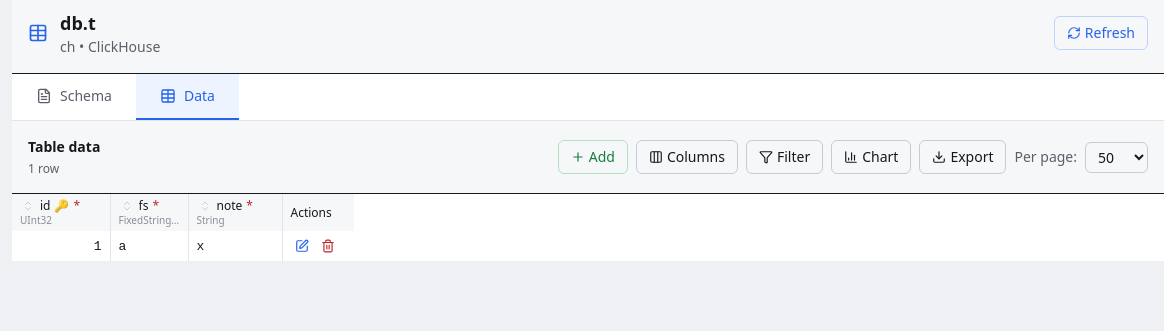
Scenario: TableDataViewer（ClickHouse） › 按某列排序失败时取消排序重读，报错仍然看得到
The image size is (1164, 331).
Click the button named "note: click to sort ascending".
click(204, 206)  # box x1=196 y1=198 x2=212 y2=214
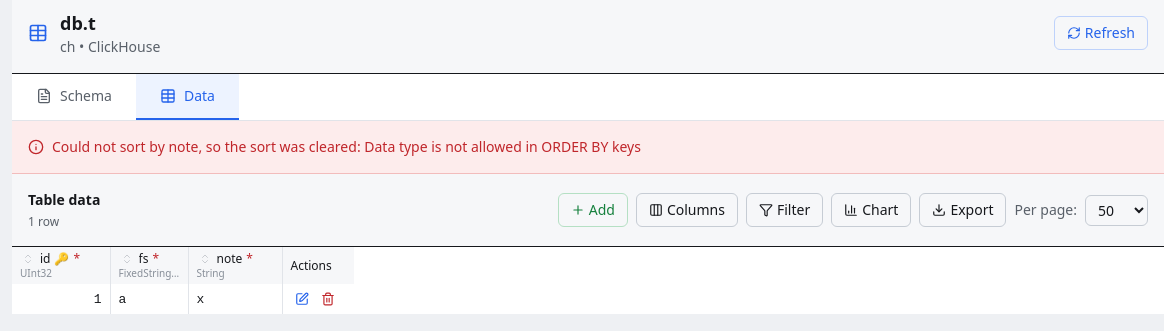
Expected: the text "note" is shown, x1=52 y1=137 x2=641 y2=156
Result: the text "not allowed in ORDER BY keys" is shown at x1=52 y1=137 x2=641 y2=156
